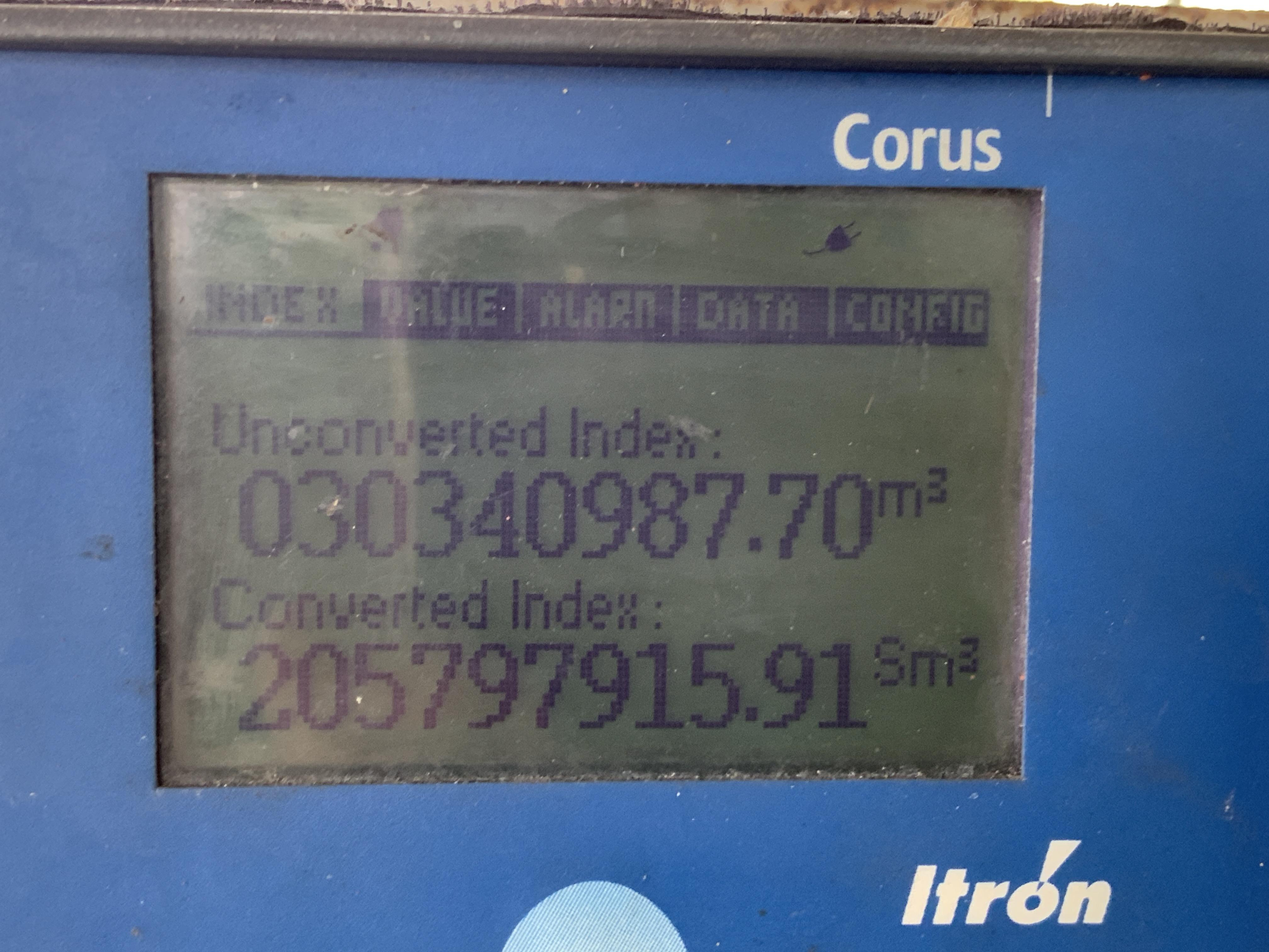digital_screen: (150, 165, 1050, 790)
